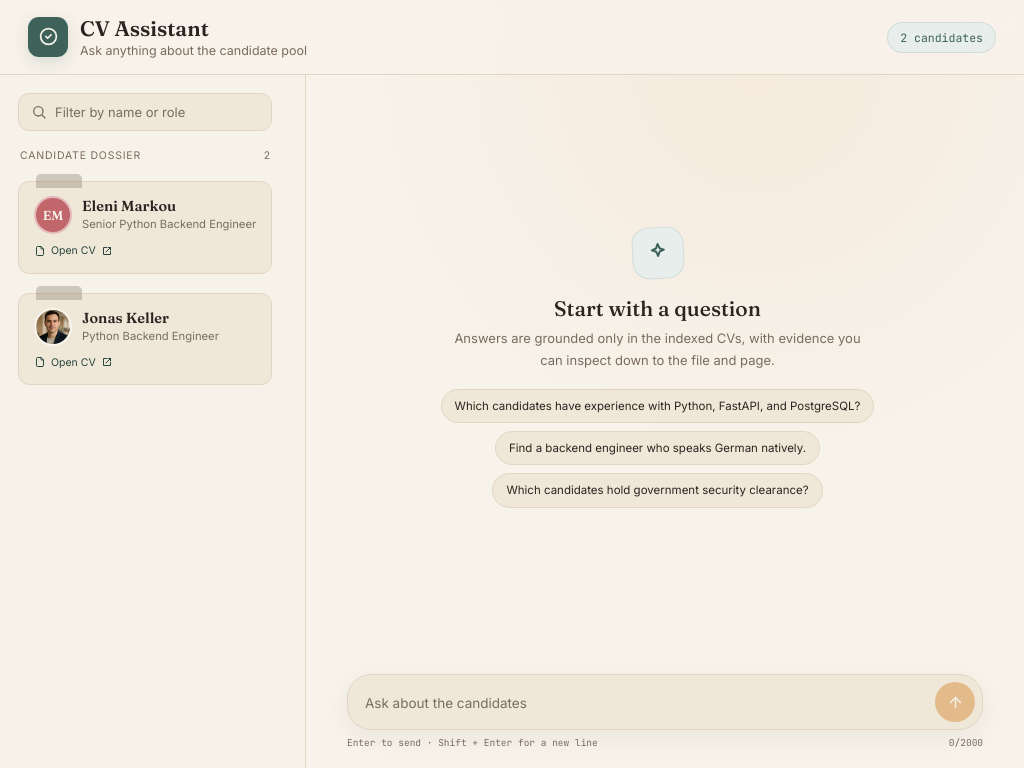
Scenario: CV Assistant application › loads real candidates and renders a grounded supported answer
The width and height of the screenshot is (1024, 768).
Expected: the text "2 candidates" is shown, [887, 22, 996, 52]
Expected: the heading "Eleni Markou" is shown, [82, 197, 176, 215]
Type "Who knows Python and FastAPI?" into the text box named "Ask a question about the candidates".
click(646, 703); type("Who knows Python and FastAPI?")  # box [365, 684, 927, 722]
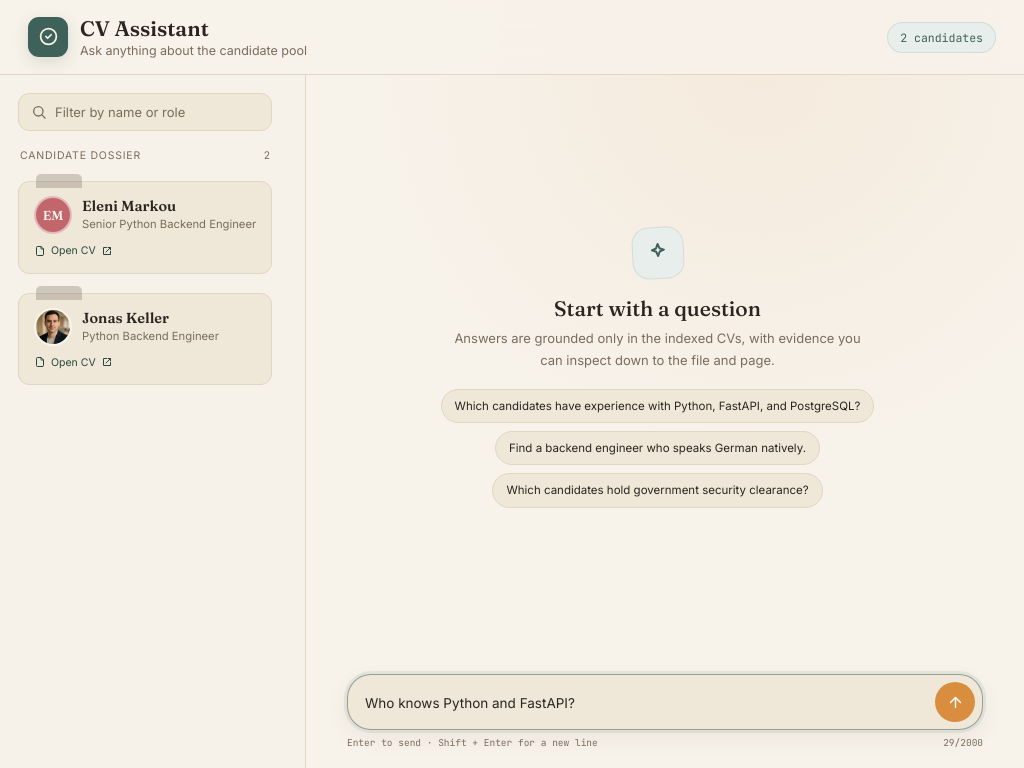
Click the button named "Send question".
click(955, 702)  # box [935, 682, 975, 722]
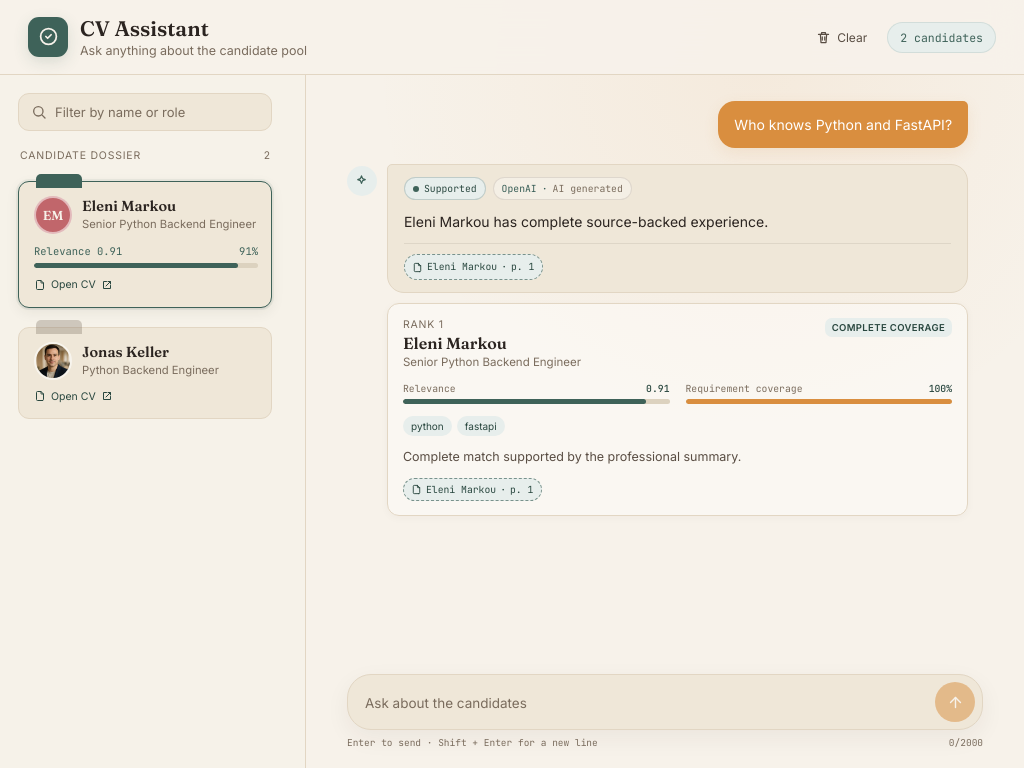
Expected: the text "Eleni Markou has complete source-backed experience." is shown, [404, 213, 768, 230]
Expected: the text "Supported" is shown, [404, 177, 486, 200]
Expected: the text "OpenAI" is shown, [502, 182, 537, 195]
